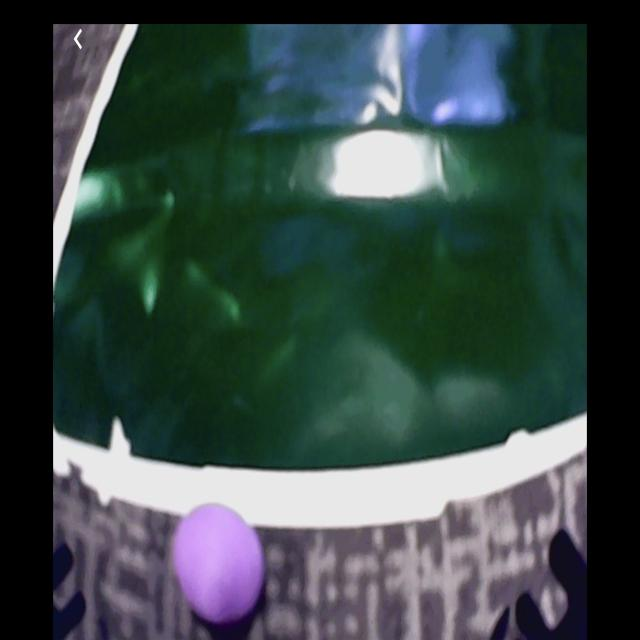ball: (176, 503, 263, 625)
